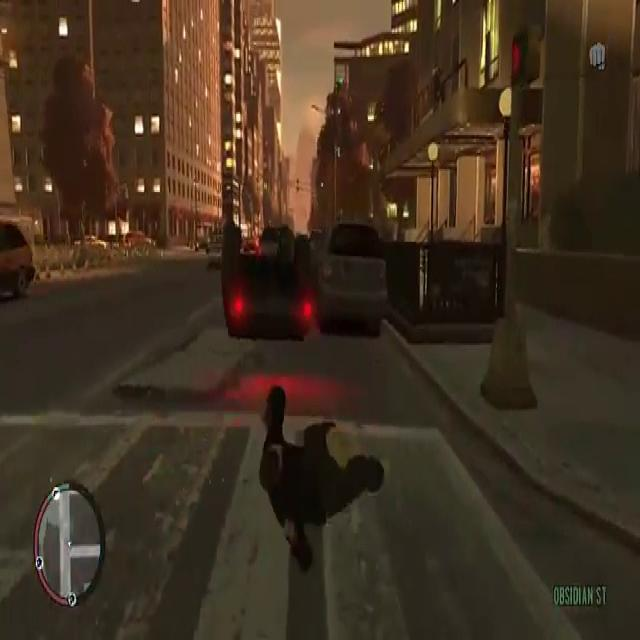accident: (221, 204, 324, 342)
